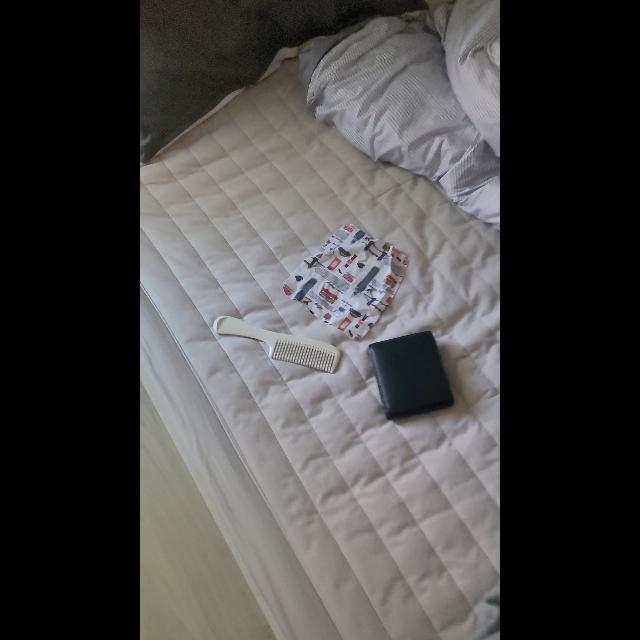COMB: (213, 316, 341, 372)
Glasses cleaning cloth: (283, 224, 409, 340)
WALLET: (368, 332, 456, 421)
